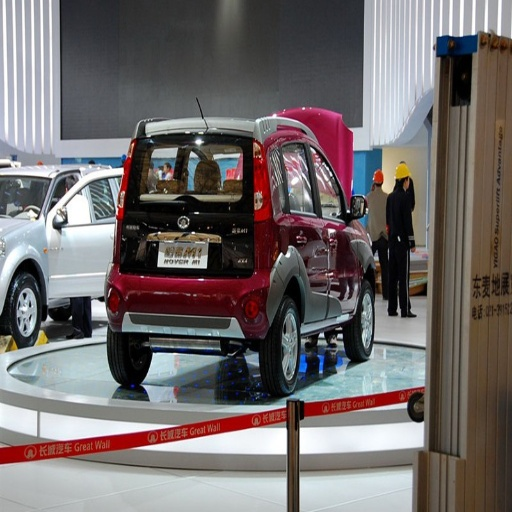back_bumper: (115, 287, 216, 335)
back_right_door: (285, 142, 330, 321)
trunk: (117, 209, 273, 320)
